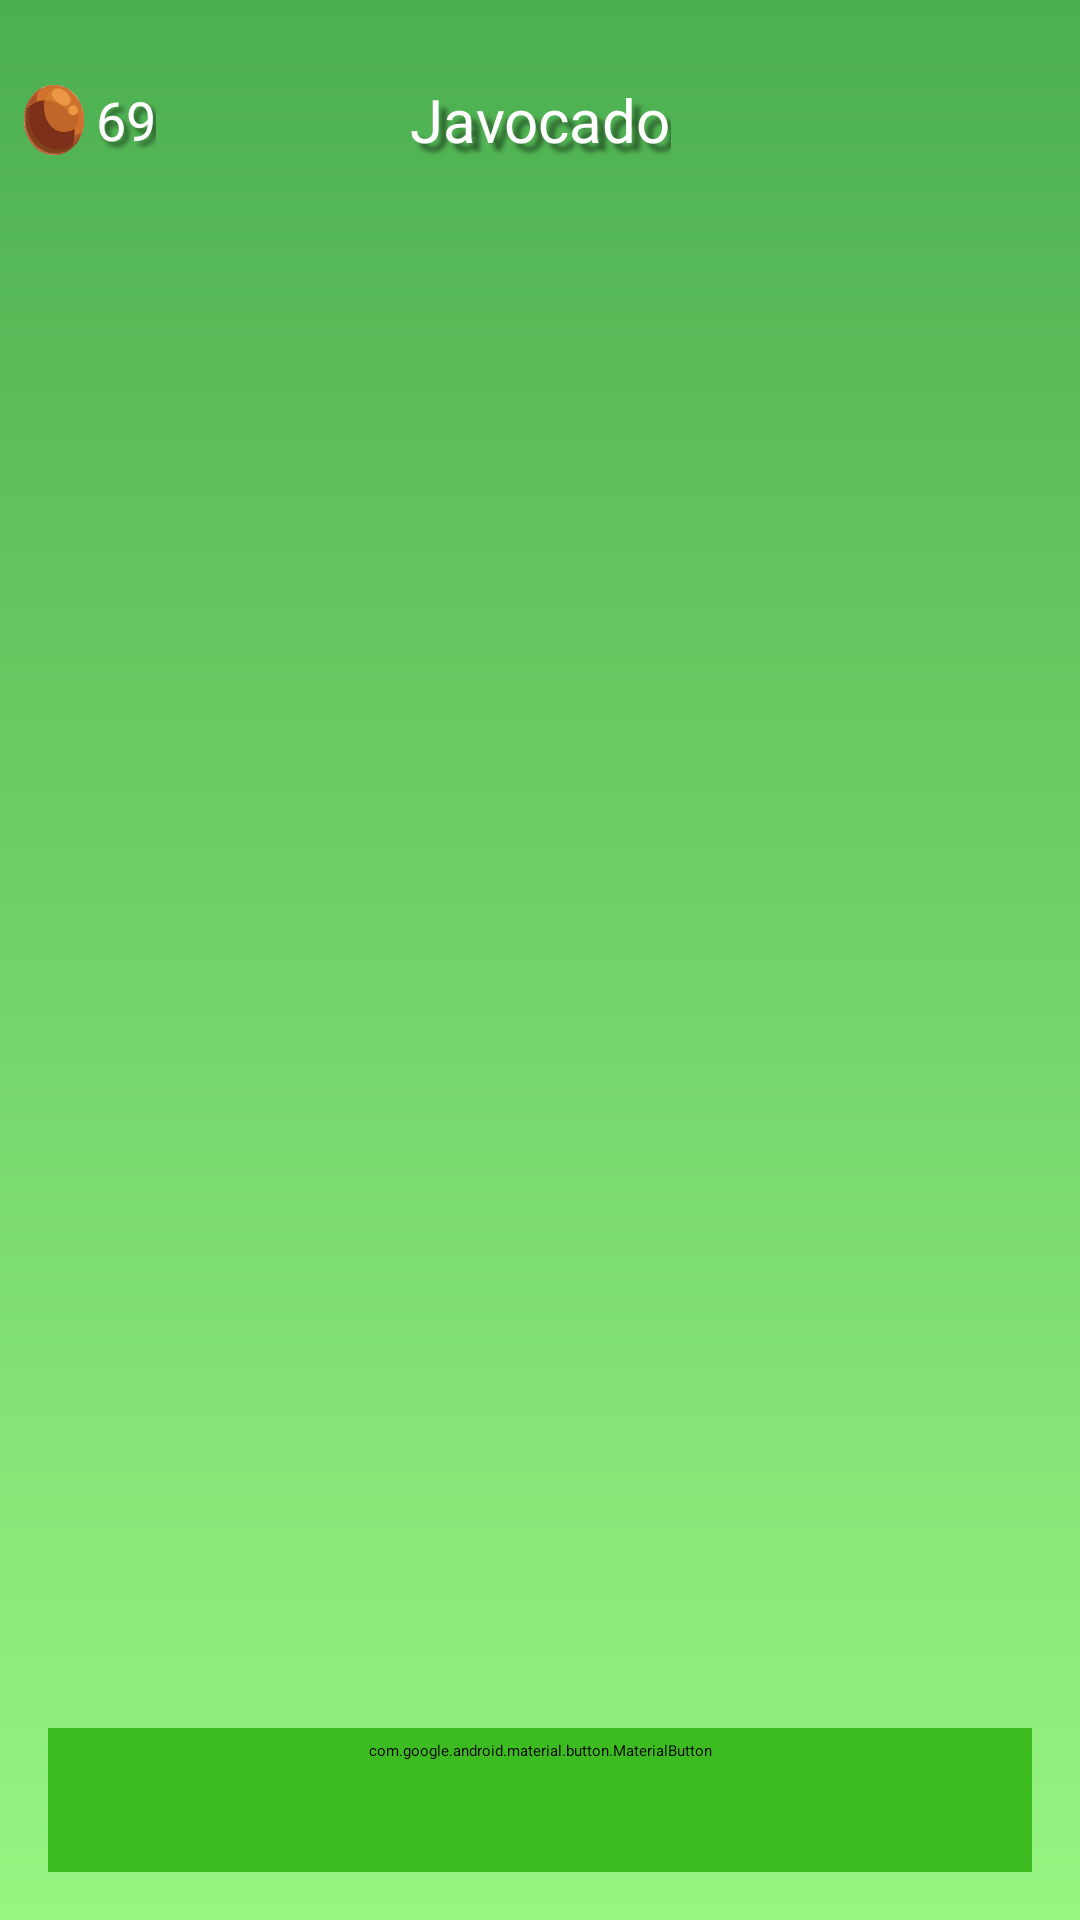

Screen size 1080x1920. Icon name, then its center in pixels as point (x, y):
seed: point (54, 120)
